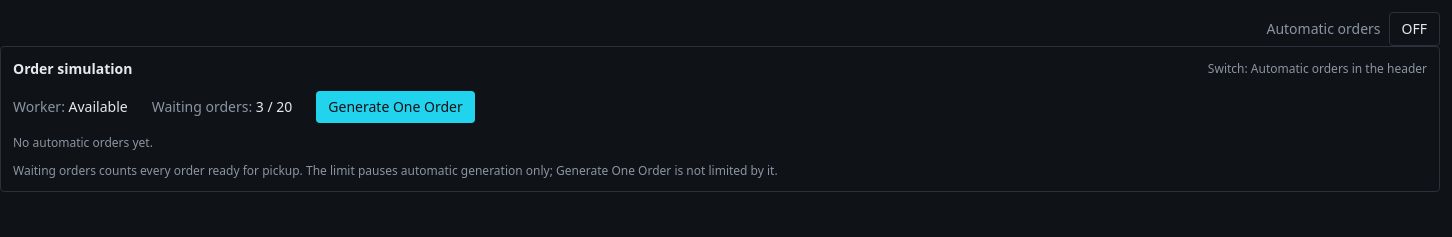
Test: OrderSimulationPanel › never touches Automatic Dispatch
Click the switch named "Automatic orders" at {"x": 1414, "y": 29}, box [1388, 12, 1440, 46]
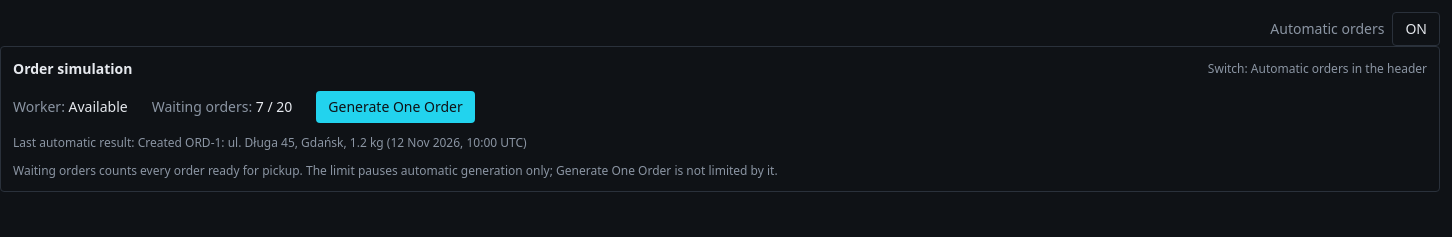
Expected: the switch is checked, [1392, 12, 1440, 46]
Click the button "Generate One Order" at {"x": 396, "y": 107}, box [316, 91, 475, 123]
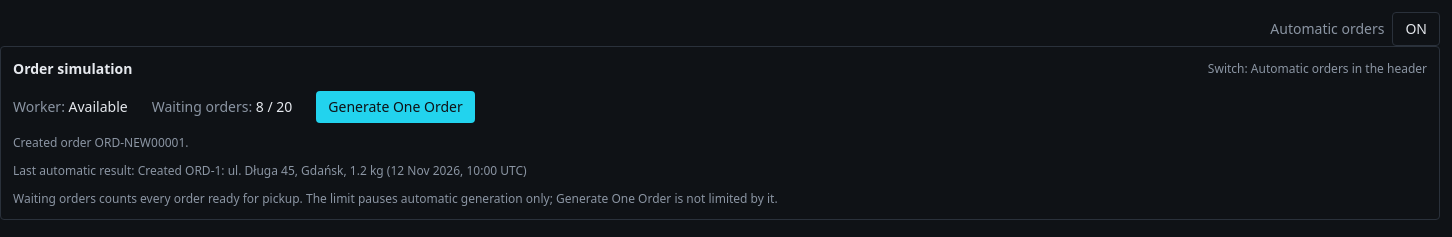
Expected: the text "Created order ORD-NEW00001." is shown, [13, 134, 189, 151]
